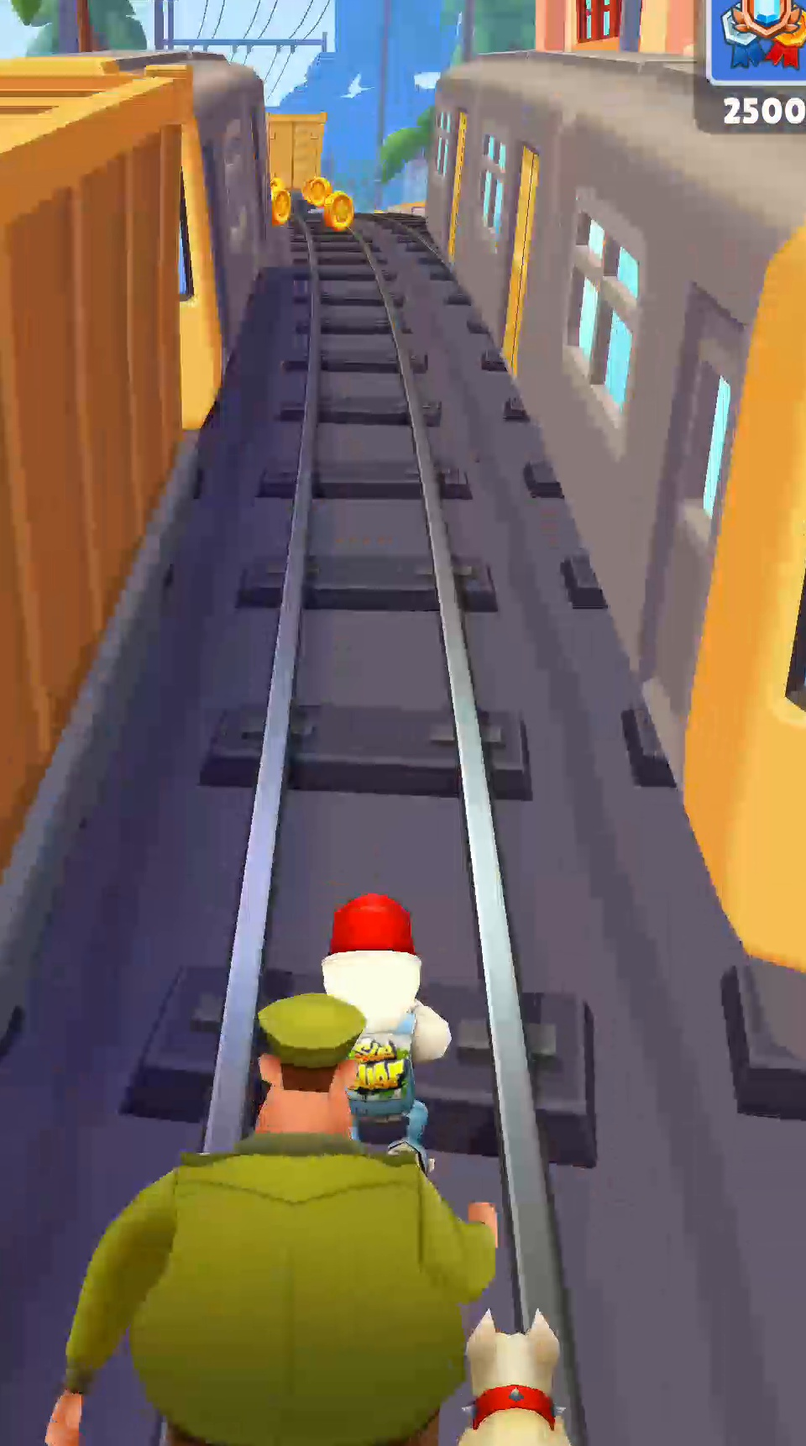train: (427, 51, 805, 970), (0, 53, 276, 881), (267, 113, 326, 191)
